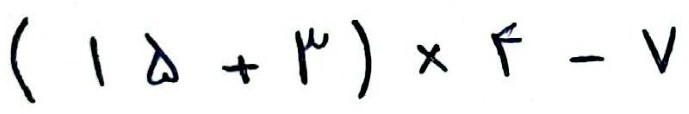character: (9, 17, 38, 105), (294, 27, 330, 85), (492, 23, 527, 81), (144, 32, 180, 85), (350, 18, 373, 100), (640, 26, 679, 74), (415, 43, 450, 76), (222, 54, 259, 85), (90, 35, 107, 86), (570, 57, 610, 71)
